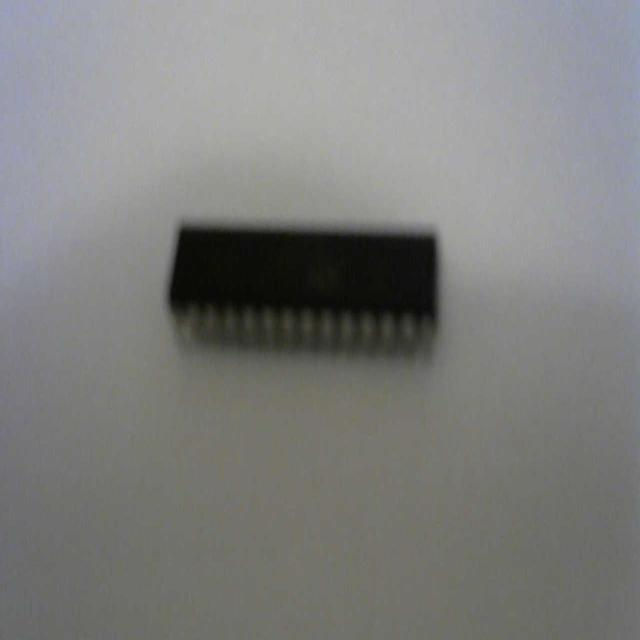atmega: (166, 216, 442, 364)
